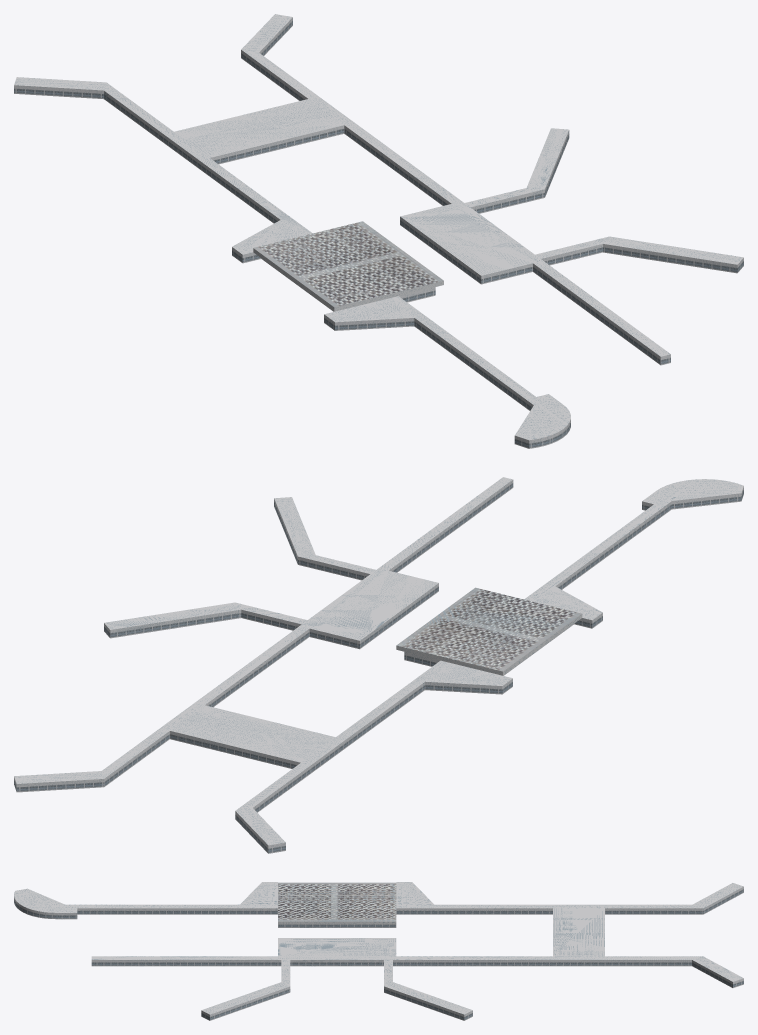
File: WSSS_ZT_TERMINAL.dae
3 views of the same model, one above another, from view 1: azimuth 30°, elevation 25°; view 2: azimuth 150°, elevation 25°; view 3: azimuth 270°, elevation 25° (orthographic). The views are drawn at different scales.
Visible parts, largest first — view 1: SketchUp (×3); view 2: SketchUp (×3); view 3: SketchUp (×3).
Boxes of the visible parts, x1,y1,x2,y2 form: SketchUp (×3): [14, 14, 743, 448]; SketchUp (×3): [14, 477, 743, 853]; SketchUp (×3): [14, 882, 743, 1020].
Bounding box in the file's own units: 35514 × 82582 × 1181.
